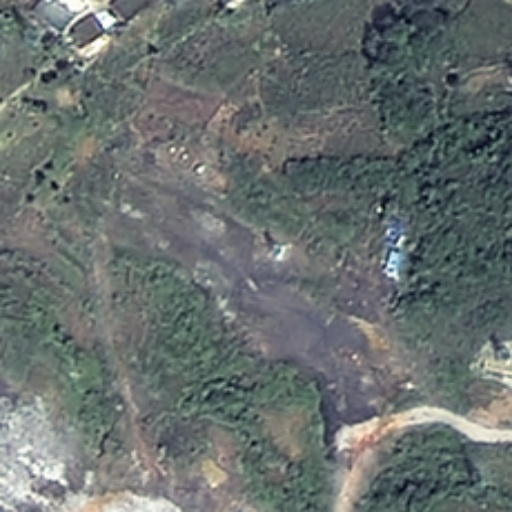landslide: (106, 180, 398, 407)
